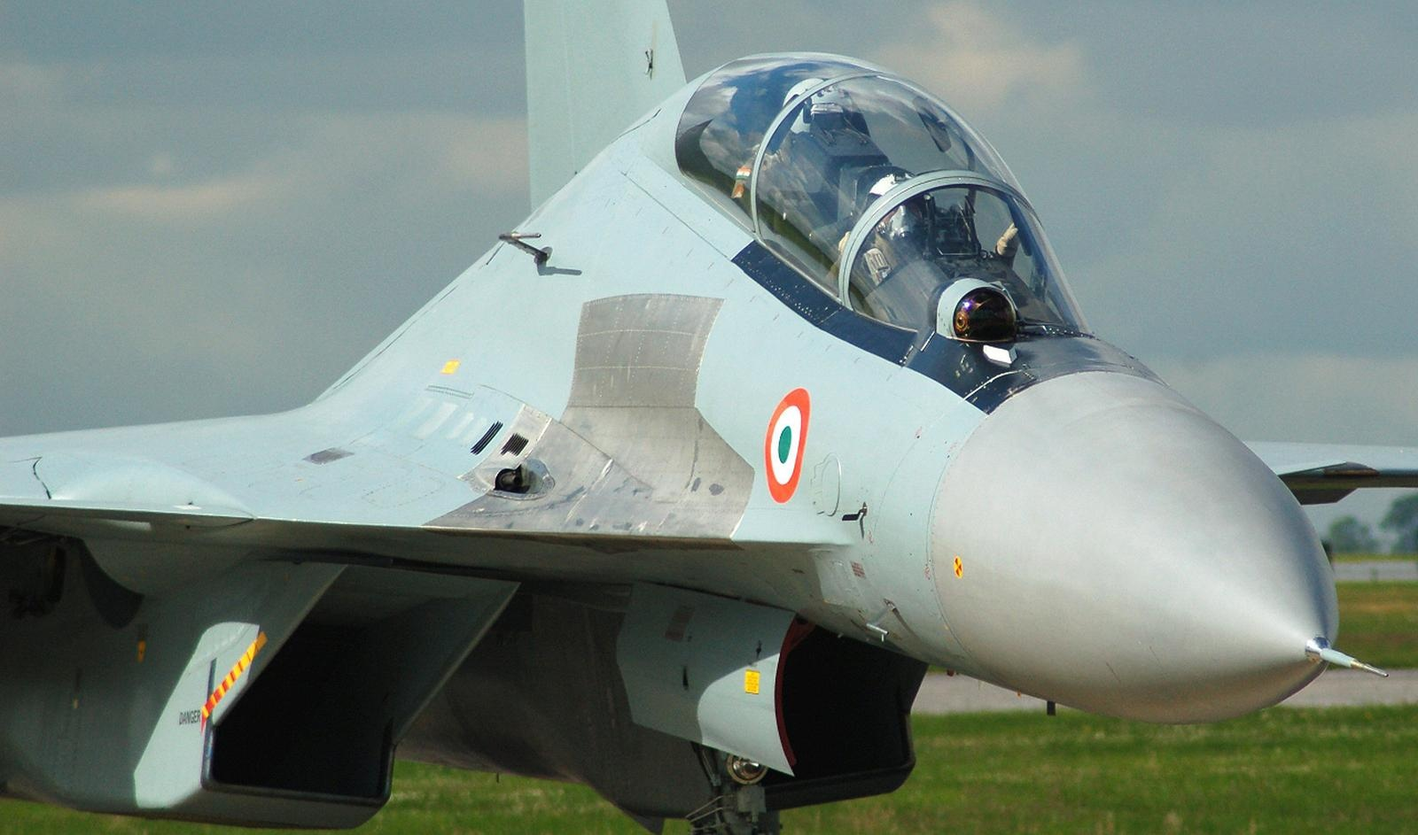aircraft: (2, 50, 1396, 816)
